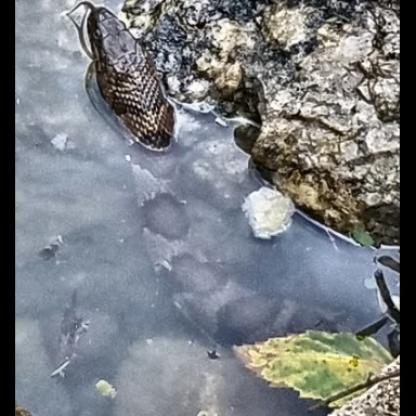Snake: (69, 0, 190, 154)
